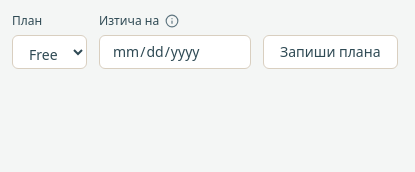
Test case: PlanForm › disables the date for free and enables it for pro
The width and height of the screenshot is (415, 172).
Expected: the date field labelled "Изтича на" is disabled, top-left (99, 35), bottom-right (251, 69)
Select "Pro" in the dropdown labelled "План": point(50, 52) top-left (12, 35), bottom-right (87, 69)
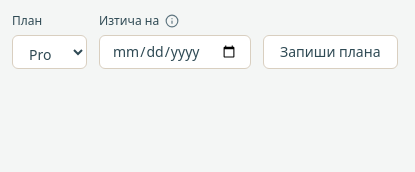
Expected: the date field labelled "Изтича на" is enabled, top-left (99, 35), bottom-right (251, 69)
